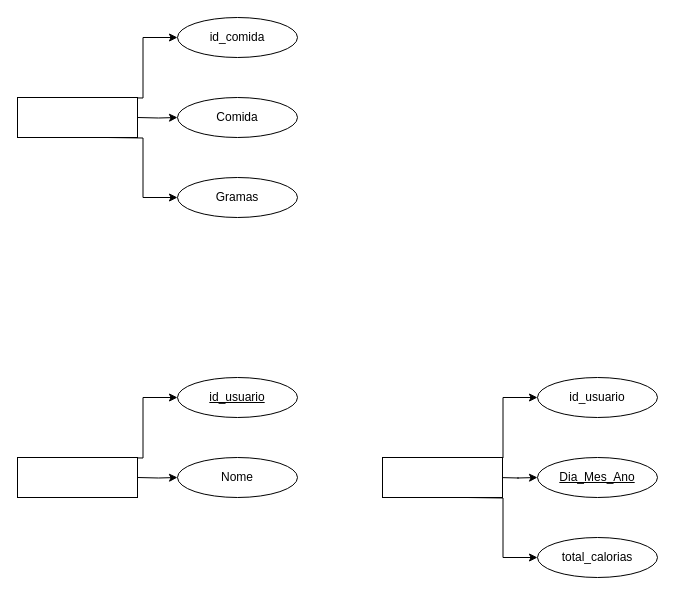
Some shapes in this 675 by 595 pixel diagram are drawn without their labels. Here are the shapes that lost their labels. From the top down, the centre of each, then its label:
[77,117]: Alimentos
[77,477]: Usuario
[442,477]: data
